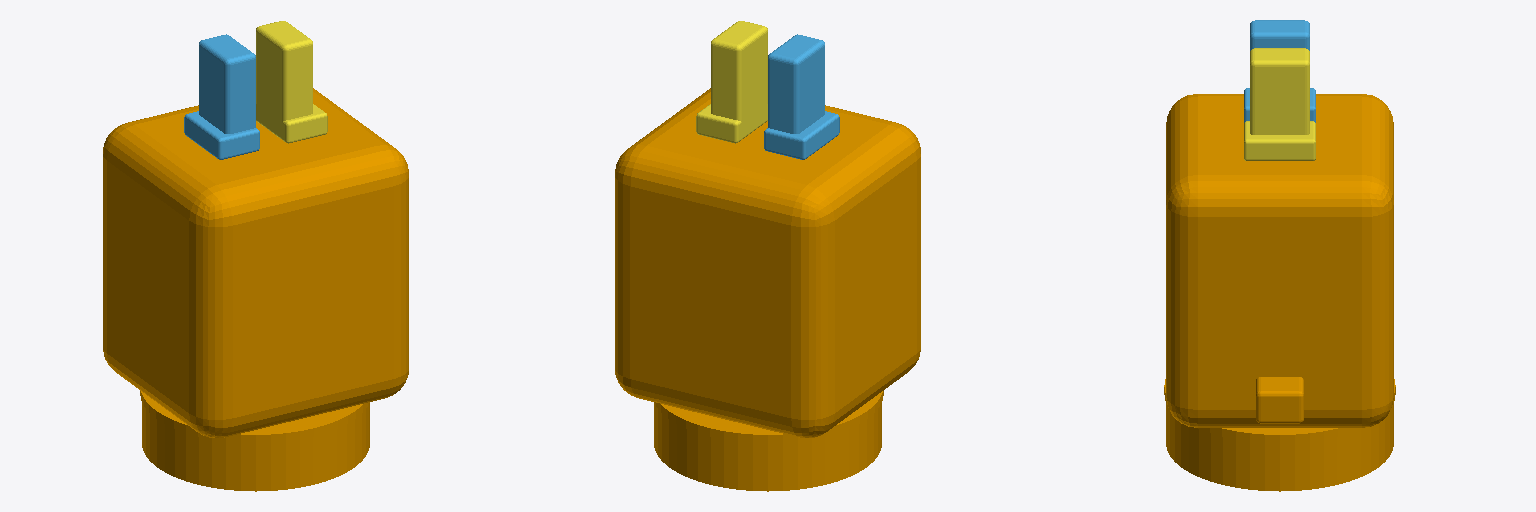
robot.urdf — ckd_rlsh_ur:
<?xml version="1.0"?>
<robot name="ckd_rlsh_ur">
<link name="mount"><visual ><geometry ><mesh filename="../meshes/rlsh-ur/mount.obj"/></geometry></visual><collision ><origin xyz="0 0 0.009" rpy="0 0 0"/><geometry ><cylinder radius="0.038" length="0.018"/></geometry></collision><collision ><origin xyz="0 0 0.0655" rpy="0 0 0"/><geometry ><box size="0.083 0.076 0.095"/></geometry></collision></link>
<link name="left_jaw"><visual ><geometry ><mesh filename="../meshes/rlsh-ur/left_jaw.obj"/></geometry></visual><collision ><origin xyz="-0.013 0 0.117" rpy="0 0 0"/><geometry ><box size="0.016 0.024 0.008"/></geometry></collision><collision ><origin xyz="-0.011 0 0.1305" rpy="0 0 0"/><geometry ><box size="0.012 0.02 0.035"/></geometry></collision></link>
<link name="left_contact"></link>
<link name="right_jaw"><visual ><geometry ><mesh filename="../meshes/rlsh-ur/right_jaw.obj"/></geometry></visual><collision ><origin xyz="0.013 0 0.117" rpy="0 0 0"/><geometry ><box size="0.016 0.024 0.008"/></geometry></collision><collision ><origin xyz="0.011 0 0.1305" rpy="0 0 0"/><geometry ><box size="0.012 0.02 0.035"/></geometry></collision></link>
<link name="right_contact"></link>
<link name="tcp"></link>
<joint name="left_contact_joint" type="fixed"><parent link="left_jaw"/><child link="left_contact"/><origin xyz="-0.005 0 0.138" rpy="0 0 0"/></joint>
<joint name="finger_joint" type="prismatic"><parent link="mount"/><child link="left_jaw"/><origin xyz="0 0 0" rpy="0 0 0"/><axis xyz="-1 0 0"/><limit lower="0" upper="0.009" velocity="0.05" effort="42"/></joint>
<joint name="right_contact_joint" type="fixed"><parent link="right_jaw"/><child link="right_contact"/><origin xyz="0.005 0 0.138" rpy="0 0 0"/></joint>
<joint name="right_mimic_joint" type="prismatic"><parent link="mount"/><child link="right_jaw"/><origin xyz="0 0 0" rpy="0 0 0"/><axis xyz="1 0 0"/><limit lower="0" upper="0.009" velocity="0.05" effort="42"/><mimic joint="finger_joint" multiplier="1" offset="0"/></joint>
<joint name="tcp_joint" type="fixed"><parent link="mount"/><child link="tcp"/><origin xyz="0 0 0.138" rpy="0 0 0"/></joint>
</robot>

--- Render facts (derived) ---
3 views of the same robot in one strip: view 1: azimuth 30°, elevation 25°; view 2: azimuth 150°, elevation 25°; view 3: azimuth 270°, elevation 25° (orthographic).
Robot: ckd_rlsh_ur — 6 links, 5 joints (2 prismatic, 3 fixed); root link mount; default pose: every joint at zero.
Links seen in each view (by area): view 1: mount, left_jaw, right_jaw; view 2: mount, left_jaw, right_jaw; view 3: mount, right_jaw, left_jaw.
Link boxes in pixels (x1,y1,x2,y2): mount: (103,88,408,491); left_jaw: (184,34,259,159); right_jaw: (256,21,327,143); mount: (615,88,920,491); left_jaw: (764,34,839,159); right_jaw: (696,21,767,143); mount: (1164,94,1395,491); right_jaw: (1244,48,1315,160); left_jaw: (1244,20,1315,122).
Size in the robot's own frame: 0.096 by 0.077 by 0.148 metres.
Meshes: 3 distinct files referenced, 3 mesh visuals loaded (3 OBJ).
